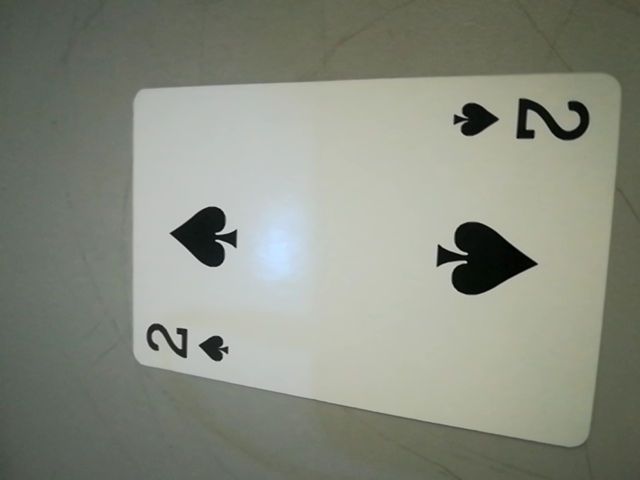ht 2: (442, 86, 611, 151)
